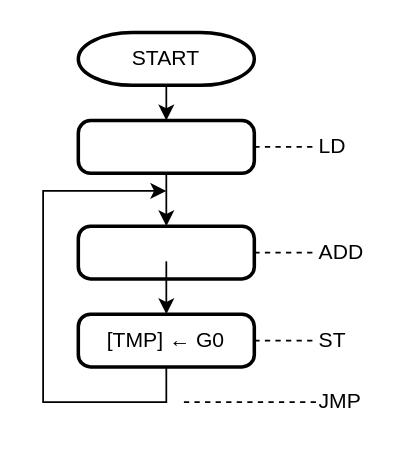
This 417x449 diagram has some shape labels left out. The centre of each missing label's shape, as x and y in pixels:
"G0 ← [ZERO]" belongs at [165,146].
"G0 ←G0 + [ONE]" belongs at [165,252].
